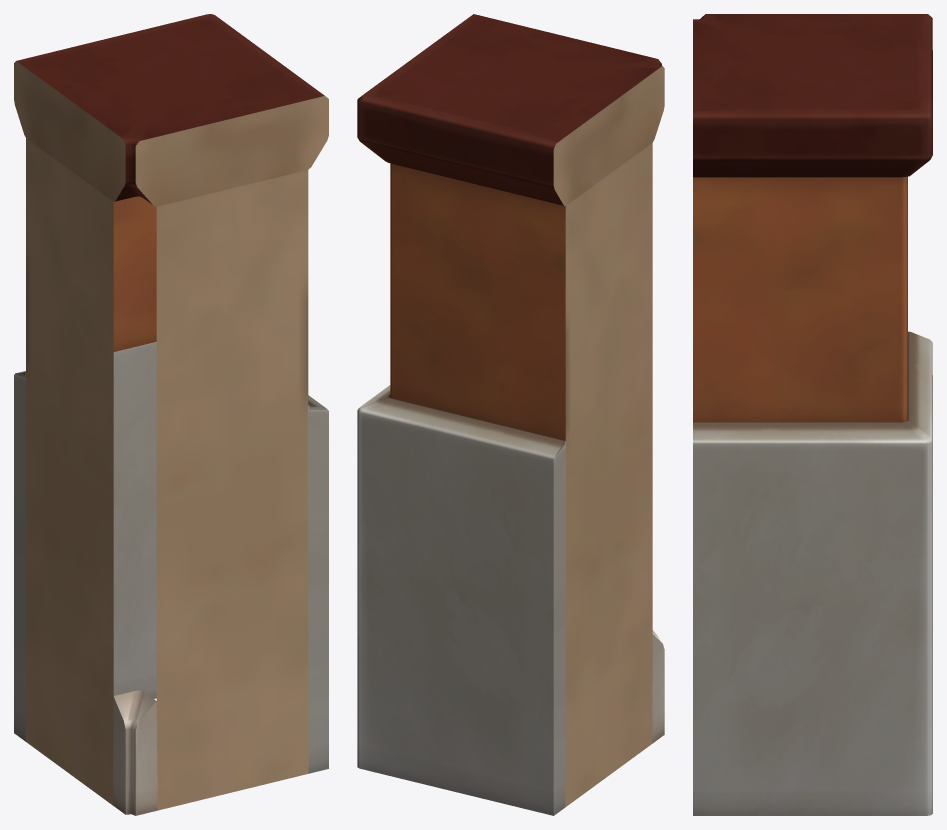
File: Wall_Inside.fbx
3 views of the same model, side by side, from view 1: azimuth 30°, elevation 25°; view 2: azimuth 150°, elevation 25°; view 3: azimuth 270°, elevation 25° (orthographic). The views are drawn at different scales.
Visible parts, largest first — view 1: m_city_wall_left_angle_01, m_city_wall_left_angle_inside; view 2: m_city_wall_left_angle_inside, m_city_wall_left_angle_01; view 3: m_city_wall_left_angle_inside, m_city_wall_left_angle_01.
Part boxes in pixels (<box>): m_city_wall_left_angle_01: <box>14,14,328,815</box>; m_city_wall_left_angle_inside: <box>16,196,326,698</box>; m_city_wall_left_angle_inside: <box>357,163,565,815</box>; m_city_wall_left_angle_01: <box>357,14,664,815</box>; m_city_wall_left_angle_inside: <box>693,176,932,815</box>; m_city_wall_left_angle_01: <box>693,14,932,177</box>.
Bounding box in the file's own units: 62.06 × 200 × 62.01.
